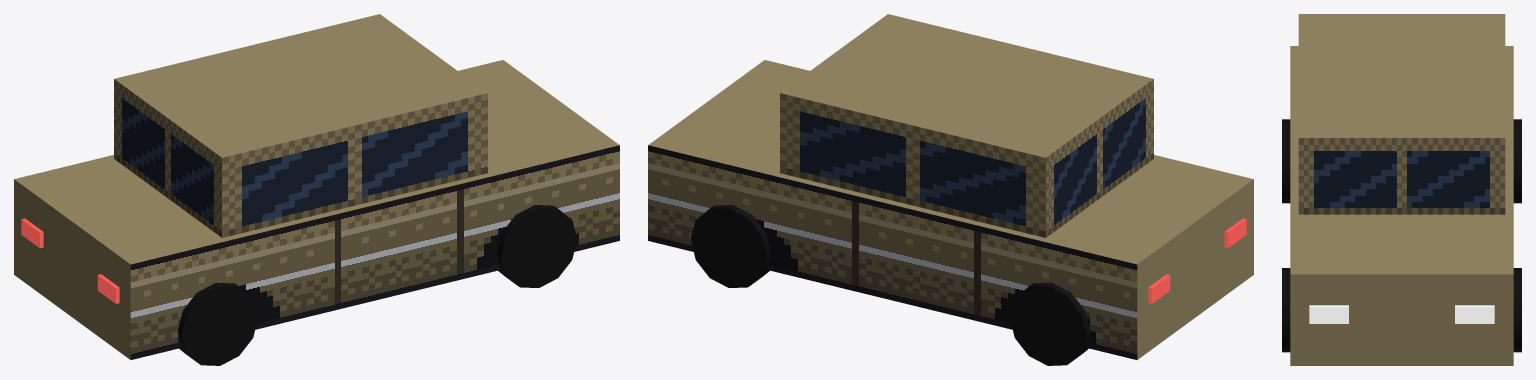
File: Auto_6.glb
3 renders of one model, left to right at view 1: azimuth 30°, elevation 25°; view 2: azimuth 150°, elevation 25°; view 3: azimuth 270°, elevation 25°, orthographic. The views are drawn at different scales.
Visible parts, largest first — view 1: Auto_6; view 2: Auto_6; view 3: Auto_6.
Boxes of the visible parts, <box> form: Auto_6: <box>14,14,619,365</box>; Auto_6: <box>648,14,1253,365</box>; Auto_6: <box>1282,14,1521,365</box>.
Size of the model in its own units: 4.67 by 1.79 by 2.04.
6 materials, 2 textured.
